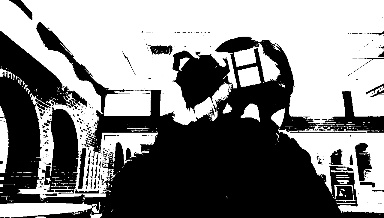H: (226, 45, 266, 87), (226, 40, 230, 44)
